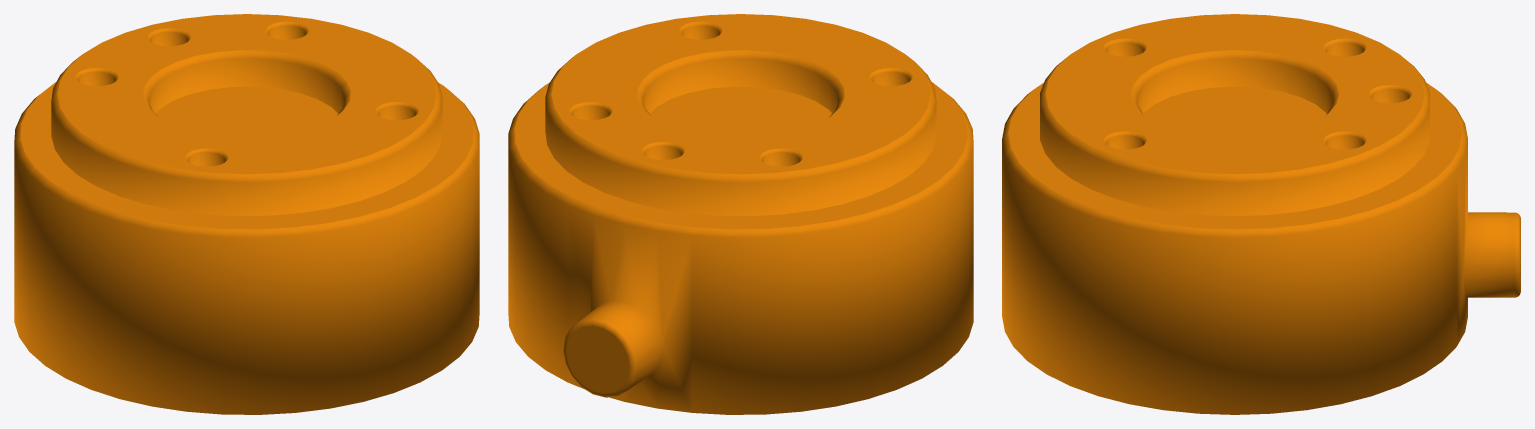
3 views of the same model, side by side, from view 1: azimuth 30°, elevation 25°; view 2: azimuth 150°, elevation 25°; view 3: azimuth 270°, elevation 25° (orthographic).
Size of the model in its own units: 0.075 by 0.0395 by 0.0835.
